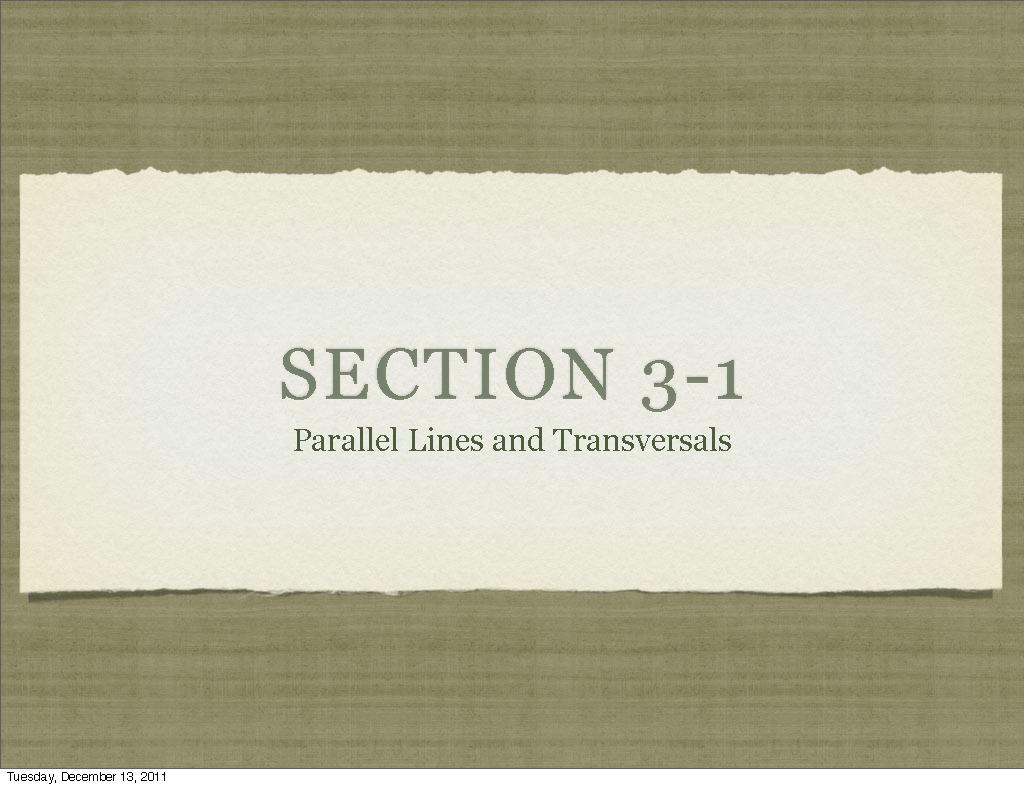title: (257, 328, 770, 420)
